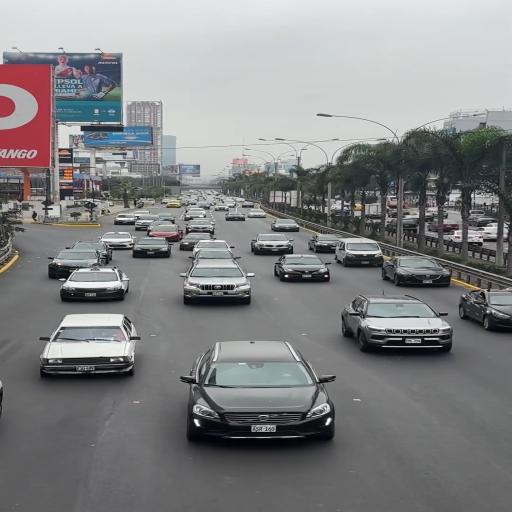auto: (182, 342, 336, 440), (339, 294, 452, 351), (38, 314, 140, 374), (178, 252, 255, 305), (57, 266, 133, 302), (458, 287, 511, 331), (382, 255, 454, 287), (46, 247, 112, 280), (272, 254, 332, 282), (332, 237, 385, 267), (251, 233, 296, 256), (130, 236, 174, 258), (96, 231, 138, 251), (189, 239, 235, 257), (442, 230, 486, 247), (146, 223, 184, 242), (307, 234, 343, 254), (178, 232, 216, 250), (474, 224, 510, 241), (270, 218, 300, 232), (428, 221, 463, 233), (113, 213, 138, 225), (246, 209, 268, 218), (224, 212, 246, 221)
